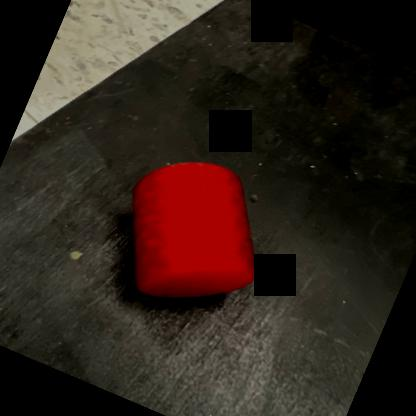red cylinder: (94, 134, 294, 335)
